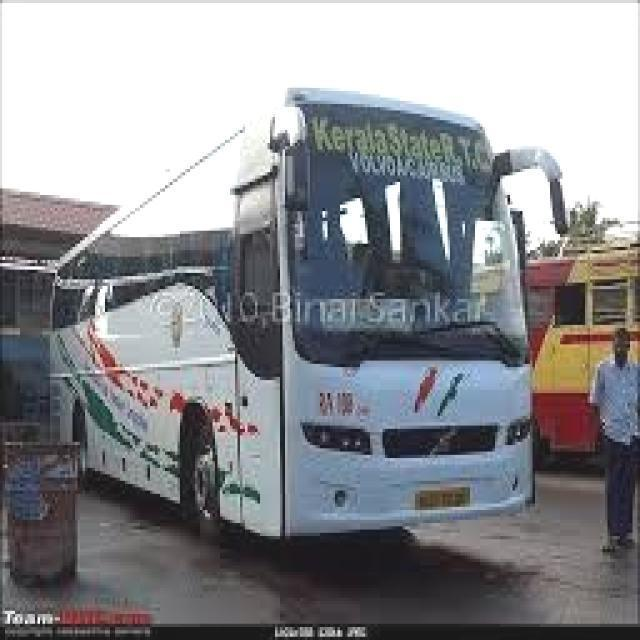Bus: (48, 35, 574, 558)
